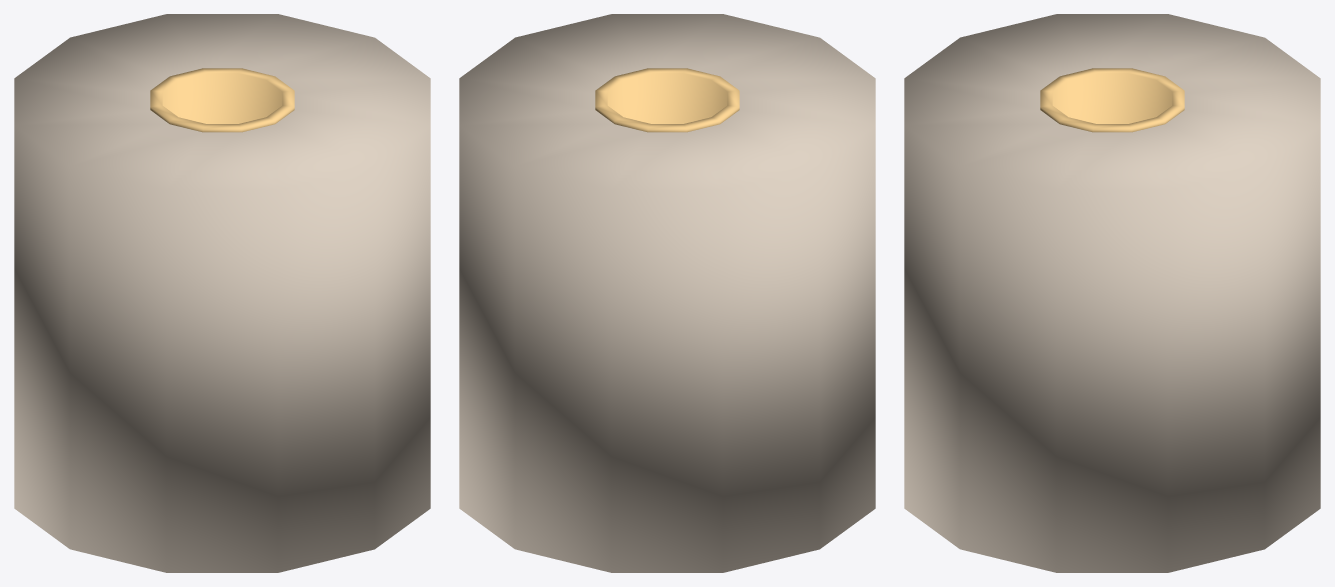
Rendered from toilet_paper.fbx.
3 views of the same model, side by side, from view 1: azimuth 30°, elevation 25°; view 2: azimuth 150°, elevation 25°; view 3: azimuth 270°, elevation 25° (orthographic).
Visible parts, largest first — view 1: toilet_paper.001; view 2: toilet_paper.001; view 3: toilet_paper.001.
Boxes of the visible parts, <box> form: toilet_paper.001: <box>14,14,430,572</box>; toilet_paper.001: <box>459,14,875,572</box>; toilet_paper.001: <box>904,14,1320,572</box>.
Bounding box in the file's own units: 309 × 319 × 309.
